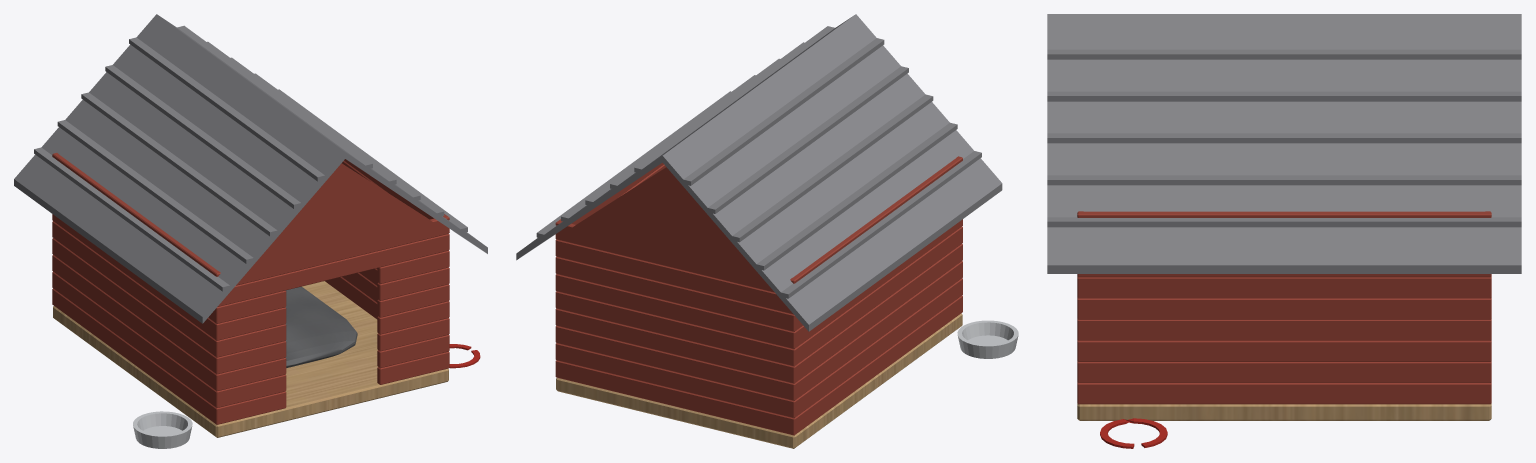
File: casinha_cachorro.glb
The picture shows the model from 3 angles, left to right: view 1: azimuth 30°, elevation 25°; view 2: azimuth 150°, elevation 25°; view 3: azimuth 270°, elevation 25°; orthographic projection. The views are drawn at different scales.
Parts seen in each view (by area): view 1: casinha_cachorro_telha_casinha, casinha_cachorro_casinha, casinha_cachorro_madeira_crua, casinha_cachorro_cobertor_cinza, casinha_cachorro_aco; view 2: casinha_cachorro_casinha, casinha_cachorro_telha_casinha, casinha_cachorro_madeira_crua, casinha_cachorro_aco; view 3: casinha_cachorro_telha_casinha, casinha_cachorro_casinha, casinha_cachorro_madeira_crua, casinha_cachorro_tinta_vermelha.
Part boxes in pixels (bbox=[...]): casinha_cachorro_telha_casinha: bbox=[14, 14, 487, 323]; casinha_cachorro_casinha: bbox=[52, 153, 449, 424]; casinha_cachorro_madeira_crua: bbox=[53, 281, 448, 437]; casinha_cachorro_cobertor_cinza: bbox=[285, 286, 357, 367]; casinha_cachorro_aco: bbox=[133, 411, 192, 448]; casinha_cachorro_casinha: bbox=[555, 156, 962, 435]; casinha_cachorro_telha_casinha: bbox=[516, 14, 1002, 331]; casinha_cachorro_madeira_crua: bbox=[556, 313, 962, 448]; casinha_cachorro_aco: bbox=[957, 320, 1018, 358]; casinha_cachorro_telha_casinha: bbox=[1047, 14, 1521, 273]; casinha_cachorro_casinha: bbox=[1077, 211, 1491, 404]; casinha_cachorro_madeira_crua: bbox=[1077, 403, 1491, 420]; casinha_cachorro_tinta_vermelha: bbox=[1100, 418, 1167, 448].
Size of the model in its own units: 1.34 by 0.985 by 1.26.
6 materials, 2 textured.
